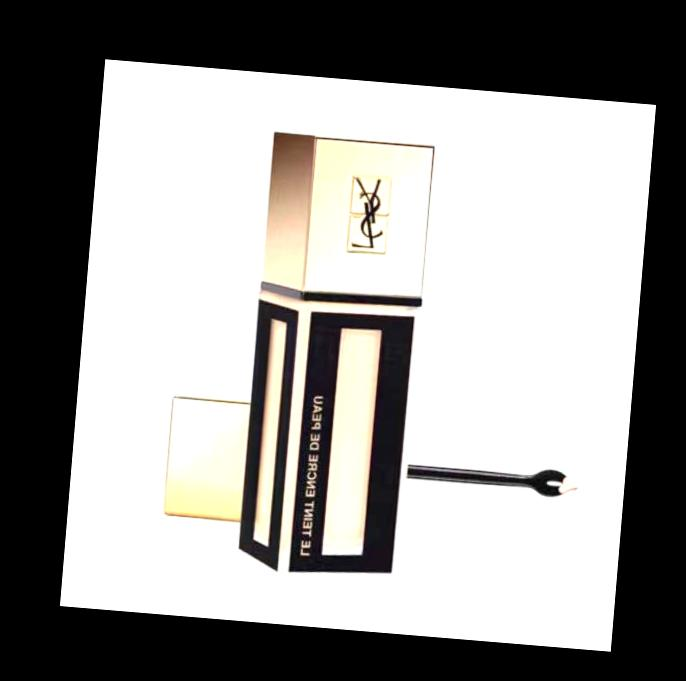cosmetic: (232, 132, 433, 584)
